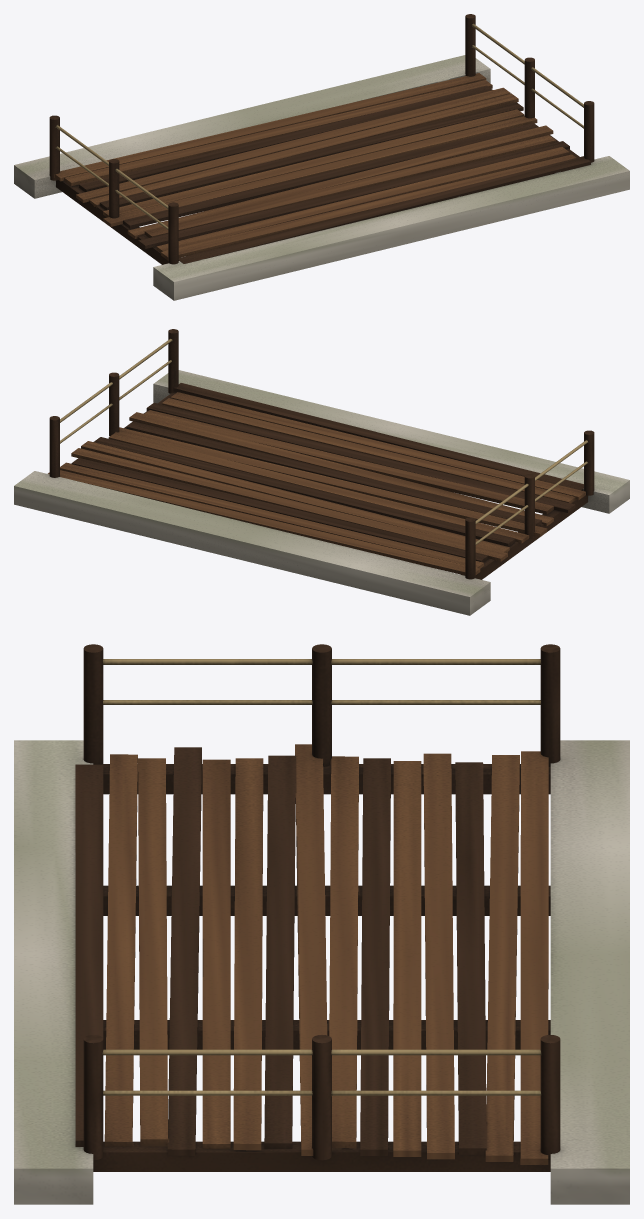
File: costa_ponte.glb
3 renders of one model, top to bottom at view 1: azimuth 30°, elevation 25°; view 2: azimuth 150°, elevation 25°; view 3: azimuth 270°, elevation 25°, orthographic. The views are drawn at different scales.
Parts seen in each view (by area): view 1: costa_ponte; view 2: costa_ponte; view 3: costa_ponte.
Boxes of the visible parts, x1,y1,x2,y2 form: costa_ponte: [14, 14, 629, 300]; costa_ponte: [14, 329, 629, 615]; costa_ponte: [14, 644, 629, 1204].
Bounding box in the file's own units: 10.2 × 1.63 × 6.2.
Materials: 1 (1 with a texture image).
